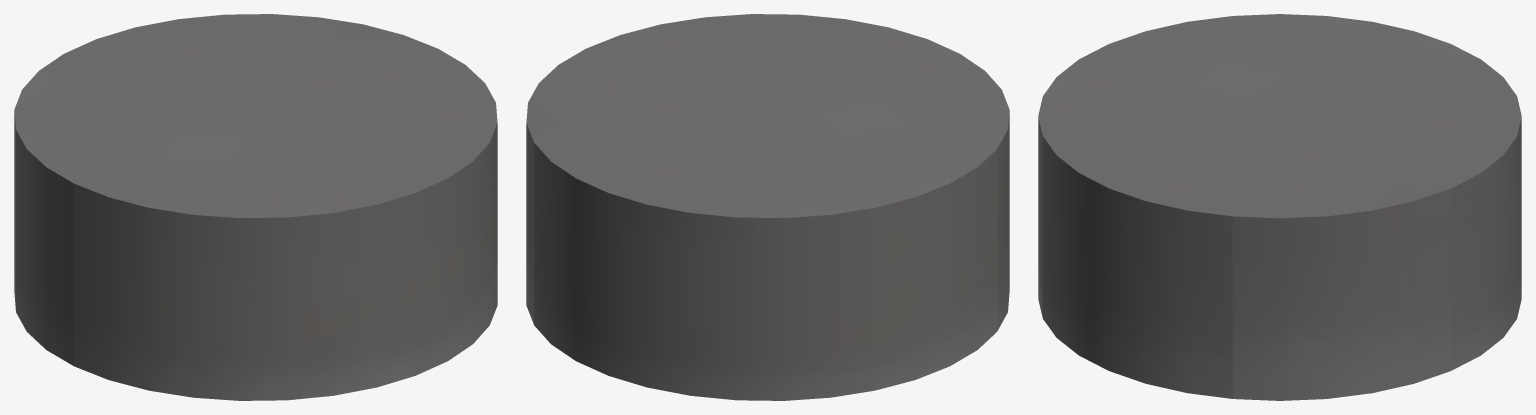
The model's file is base__roller_axle_stub_1.glb.
3 views of the same model, side by side, from view 1: azimuth 30°, elevation 25°; view 2: azimuth 150°, elevation 25°; view 3: azimuth 270°, elevation 25° (orthographic).
Visible parts, largest first — view 1: world; view 2: world; view 3: world.
Part boxes in pixels (x1,y1,x2,y2): world: (14,14,497,400); world: (526,14,1009,400); world: (1038,14,1521,400).
Bounding box in the file's own units: 0.024 × 0.01 × 0.024.
Materials: 1 (1 with a texture image).
